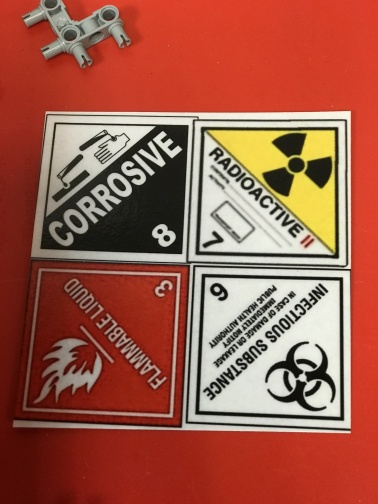Corrosive: (30, 114, 195, 263)
FlammableLiquid: (13, 262, 188, 427)
InfectiousSubstance: (186, 265, 352, 426)
Radioactive: (187, 120, 348, 266)
